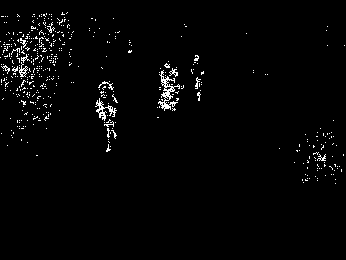person: (95, 78, 121, 155)
